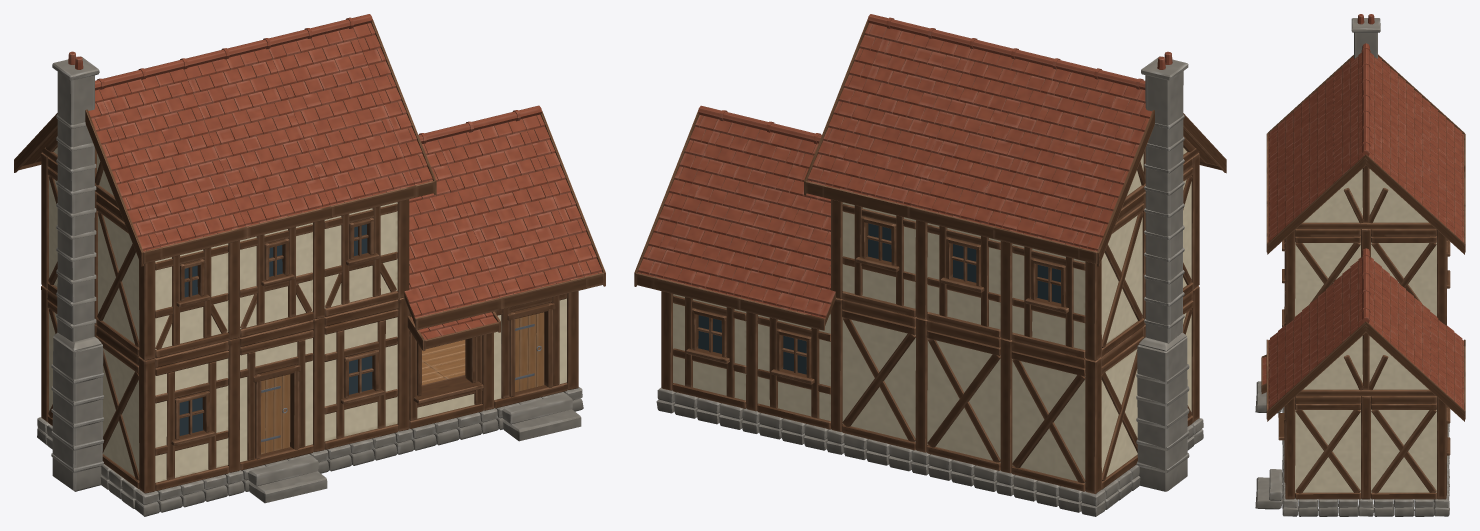
Rendered from house_workshop_godot.glb.
3 views of the same model, side by side, from view 1: azimuth 30°, elevation 25°; view 2: azimuth 150°, elevation 25°; view 3: azimuth 270°, elevation 25° (orthographic). The views are drawn at different scales.
Visible parts, largest first — view 1: house_workshop_static; view 2: house_workshop_static; view 3: house_workshop_static.
Boxes of the visible parts, box(x1,y1,x2,y2) form: house_workshop_static: box(14, 14, 605, 516); house_workshop_static: box(634, 14, 1226, 516); house_workshop_static: box(1255, 14, 1465, 516).
Size of what is drawn, in the model's own units: 11.36 by 9.62 by 5.55.
Materials: 7 (7 with a texture image).
